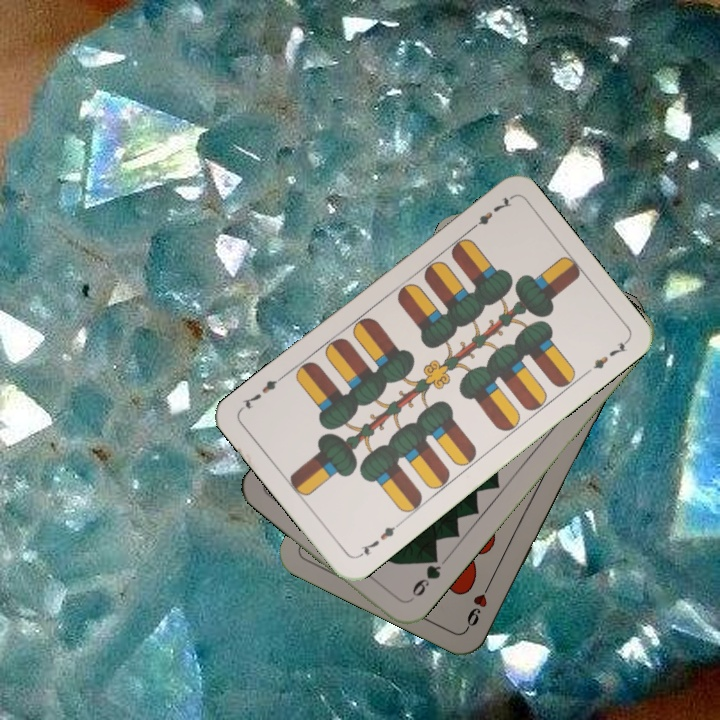E7: (353, 518, 404, 561), (464, 193, 515, 235)
G9: (407, 550, 444, 600)
H9: (462, 576, 495, 632)
